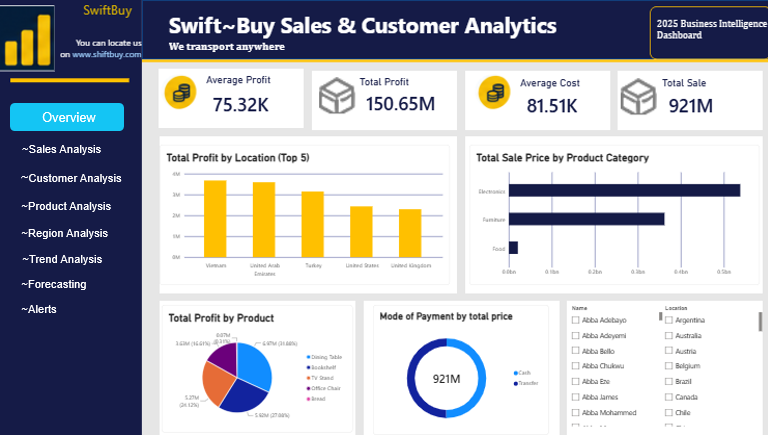

The dashboard page shown, as its layout file describes it:
{"tool":"powerbi","page":{"name":"Page 1","canvas":[1920,1080],"ordinal":0},"visuals":[{"type":"shape","box":[357.3,0,1562.7,146.5],"z":0},{"type":"shape","box":[0,0,357.4,1080],"z":1000},{"type":"textbox","box":[423.3,22.7,1138.9,95.7],"z":2000},{"type":"textbox","box":[423.3,98.3,315,45.4],"z":3000},{"type":"textbox","box":[1635.3,42.8,284.7,80.6],"z":4000},{"type":"textbox","box":[0,0,356.6,214.5],"z":5000},{"type":"shape","box":[357.3,64.3,1562.7,172.2],"z":6000},{"type":"shape","box":[31,98.2,294.6,201.6],"z":7000},{"type":"image","box":[0,12.9,139.5,162.8],"z":8000},{"type":"shape","box":[1617.3,16.6,302.3,131.8],"z":9000},{"type":"shape","box":[398.4,169.6,359.8,146.5],"z":10000},{"type":"shape","box":[778.8,174.8,359.8,146.5],"z":11000},{"type":"shape","box":[1159.2,174.8,359.8,146.5],"z":12000},{"type":"shape","box":[1537,174.8,359.8,146.5],"z":13000},{"type":"shape","box":[401,336.7,737.7,388.1],"z":14000},{"type":"shape","box":[1159.2,336.7,737.7,388.1],"z":15000},{"type":"shape","box":[401,742.8,485.8,336.7],"z":16000},{"type":"shape","box":[1411.1,743.3,485.8,336.7],"z":17000},{"type":"shape","box":[907.3,742.8,485.8,336.7],"z":18000},{"type":"cardVisual","title":"Average Profit","fields":{"Data":["ShiftBuy_Enterprise_2000_Sales_Dataset_International.Average Profit"]},"box":[516.6,182.5,241.6,100.2],"z":19000},{"type":"image","box":[380.4,182.5,136.2,87.4],"z":20000},{"type":"cardVisual","title":"Total Profit","fields":{"Data":["ShiftBuy_Enterprise_2000_Sales_Dataset_International.Total Profit"]},"box":[897,187.6,241.6,90],"z":21000},{"type":"cardVisual","title":"Average Cost","fields":{"Data":["ShiftBuy_Enterprise_2000_Sales_Dataset_International.Measure"]},"box":[1295.4,190.2,241.6,92.5],"z":22000},{"type":"cardVisual","title":"Total Sale ","fields":{"Data":["ShiftBuy_Enterprise_2000_Sales_Dataset_International.Total Sale Price"]},"box":[1647.6,190.2,241.6,92.5],"z":23000},{"type":"image","box":[796.8,187.6,90,95.1],"z":24000},{"type":"image","box":[1544.7,190.2,90,95.1],"z":25000},{"type":"image","box":[1159.2,182.5,136.2,87.4],"z":26000},{"type":"columnChart","title":"Total Profit by Location (Top 5)","fields":{"Category":["ShiftBuy_Enterprise_2000_Sales_Dataset_International.Location"],"Y":["ShiftBuy_Enterprise_2000_Sales_Dataset_International.Total Profit"]},"box":[401,336.7,737.7,388.1],"z":27000},{"type":"clusteredBarChart","fields":{"Category":["ShiftBuy_Enterprise_2000_Sales_Dataset_International.Product Category"],"Y":["ShiftBuy_Enterprise_2000_Sales_Dataset_International.Total Sale Price"]},"box":[1169.7,356.9,719.7,347],"z":28000},{"type":"pieChart","fields":{"Category":["ShiftBuy_Enterprise_2000_Sales_Dataset_International.Product"],"Y":["ShiftBuy_Enterprise_2000_Sales_Dataset_International.Total Profit"]},"box":[407,753.4,473.7,315.1],"z":29000},{"type":"donutChart","title":"Mode of Payment by total price","fields":{"Category":["ShiftBuy_Enterprise_2000_Sales_Dataset_International.Mode of Payment"],"Y":["Sum(ShiftBuy_Enterprise_2000_Sales_Dataset_International.Total Price)"]},"box":[931.3,753.9,435.7,320.9],"z":30000},{"type":"slicer","fields":{"Values":["ShiftBuy_Enterprise_2000_Sales_Dataset_International.Name"]},"box":[1416.5,753.9,232.2,300],"z":31000},{"type":"slicer","fields":{"Values":["ShiftBuy_Enterprise_2000_Sales_Dataset_International.Location"]},"box":[1647.6,753.1,249.3,300.7],"z":32000}]}

Visuals, with their boxes on the page's 1920x1080 design canvas (x1, y1, x2, y2). These are canvas units, not pixel positions in the 768x435 screenshot, which may show the page scaled, cropped or inside an application window:
shape: [x1=357, y1=0, x2=1920, y2=146]
shape: [x1=0, y1=0, x2=357, y2=1080]
textbox: [x1=423, y1=23, x2=1562, y2=118]
textbox: [x1=423, y1=98, x2=738, y2=144]
textbox: [x1=1635, y1=43, x2=1920, y2=123]
textbox: [x1=0, y1=0, x2=357, y2=214]
shape: [x1=357, y1=64, x2=1920, y2=236]
shape: [x1=31, y1=98, x2=326, y2=300]
image: [x1=0, y1=13, x2=140, y2=176]
shape: [x1=1617, y1=17, x2=1920, y2=148]
shape: [x1=398, y1=170, x2=758, y2=316]
shape: [x1=779, y1=175, x2=1139, y2=321]
shape: [x1=1159, y1=175, x2=1519, y2=321]
shape: [x1=1537, y1=175, x2=1897, y2=321]
shape: [x1=401, y1=337, x2=1139, y2=725]
shape: [x1=1159, y1=337, x2=1897, y2=725]
shape: [x1=401, y1=743, x2=887, y2=1080]
shape: [x1=1411, y1=743, x2=1897, y2=1080]
shape: [x1=907, y1=743, x2=1393, y2=1080]
"Average Profit" cardVisual: [x1=517, y1=182, x2=758, y2=283]
image: [x1=380, y1=182, x2=517, y2=270]
"Total Profit" cardVisual: [x1=897, y1=188, x2=1139, y2=278]
"Average Cost" cardVisual: [x1=1295, y1=190, x2=1537, y2=283]
"Total Sale " cardVisual: [x1=1648, y1=190, x2=1889, y2=283]
image: [x1=797, y1=188, x2=887, y2=283]
image: [x1=1545, y1=190, x2=1635, y2=285]
image: [x1=1159, y1=182, x2=1295, y2=270]
"Total Profit by Location (Top 5)" columnChart: [x1=401, y1=337, x2=1139, y2=725]
clusteredBarChart - ShiftBuy_Enterprise_2000_Sales_Dataset_International.Product Category x ShiftBuy_Enterprise_2000_Sales_Dataset_International.Total Sale Price: [x1=1170, y1=357, x2=1889, y2=704]
pieChart - ShiftBuy_Enterprise_2000_Sales_Dataset_International.Product x ShiftBuy_Enterprise_2000_Sales_Dataset_International.Total Profit: [x1=407, y1=753, x2=881, y2=1068]
"Mode of Payment by total price" donutChart: [x1=931, y1=754, x2=1367, y2=1075]
slicer - ShiftBuy_Enterprise_2000_Sales_Dataset_International.Name: [x1=1416, y1=754, x2=1649, y2=1054]
slicer - ShiftBuy_Enterprise_2000_Sales_Dataset_International.Location: [x1=1648, y1=753, x2=1897, y2=1054]
